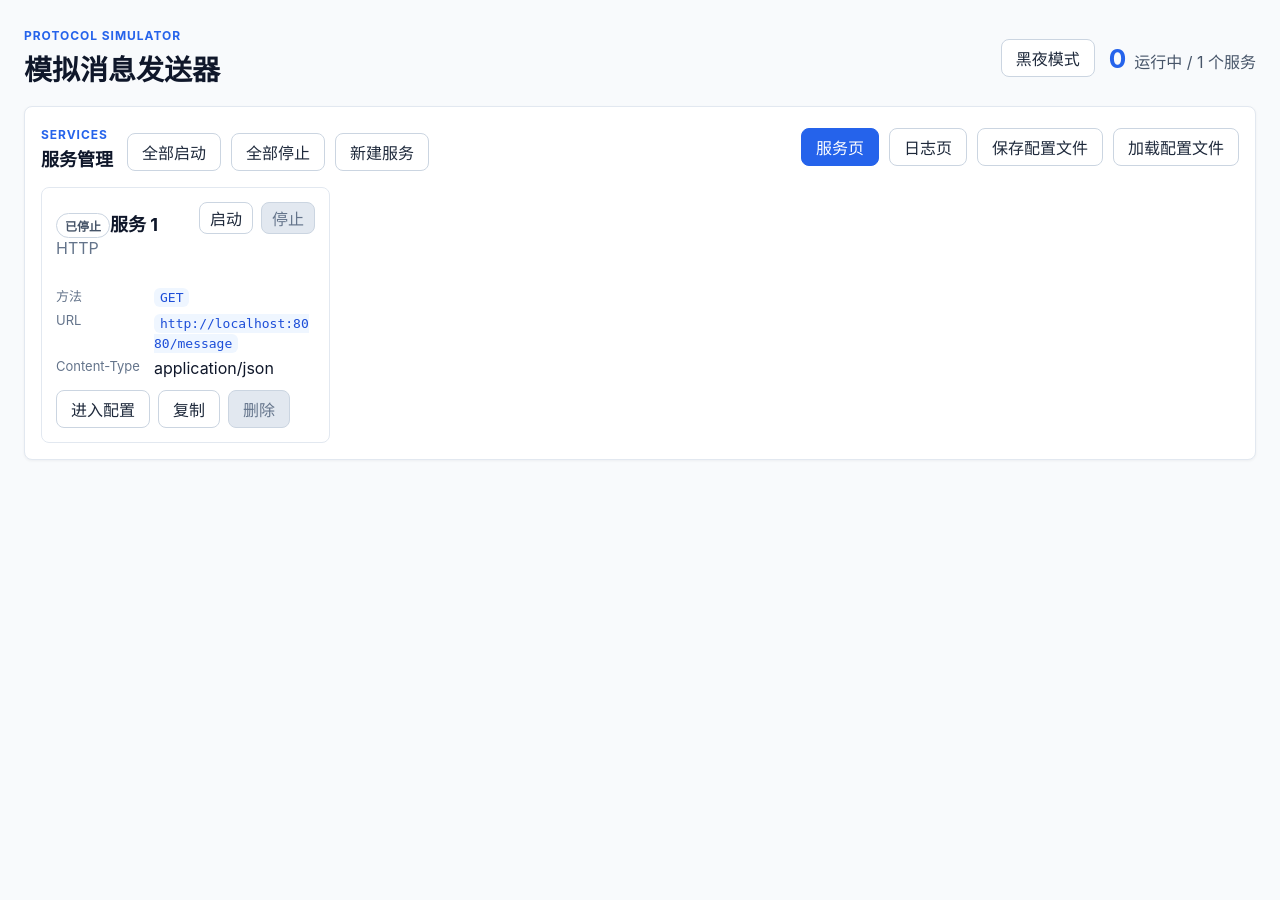
dynamic forms › edits the HTTP method and updates connection instructions
Click the button "进入配置".
click(103, 409)  # box [56,390,150,428]
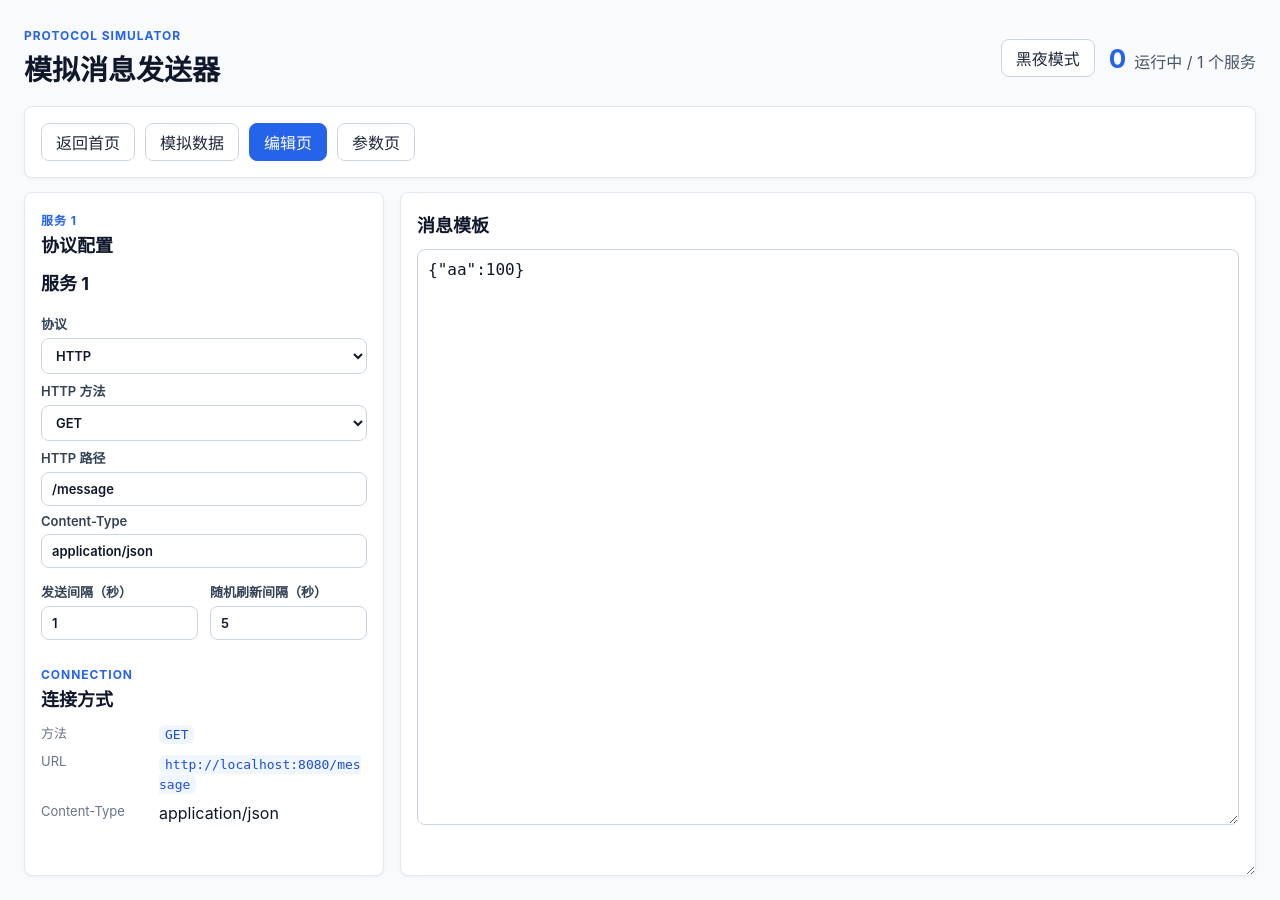
Result: the dropdown labelled "HTTP 方法" shows "GET"
Select "POST" in the dropdown labelled "HTTP 方法" at (204, 423), box [41,405,367,441]
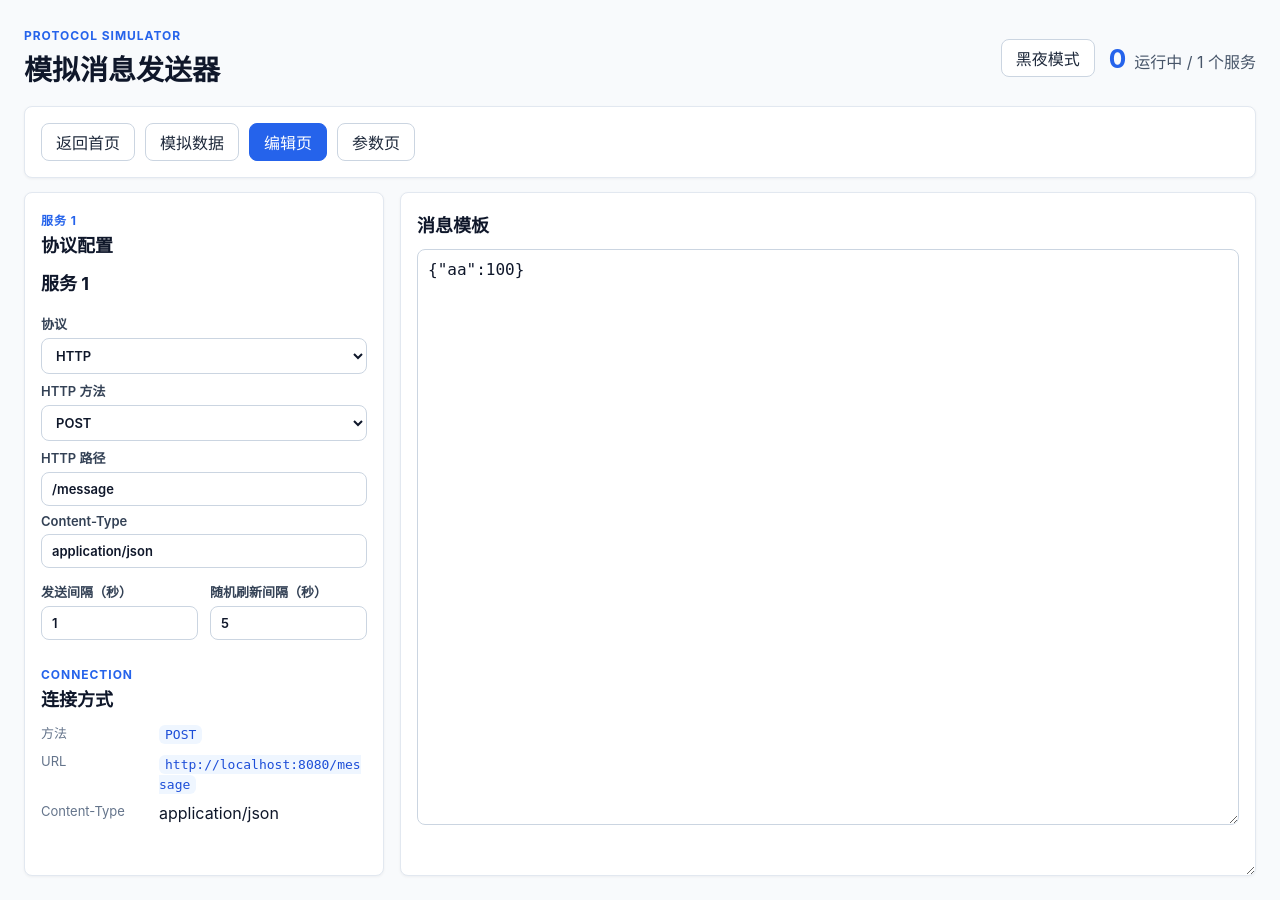
Result: the text "连接方式" is shown at [41,689,113,710]
Result: the text "POST" is shown at [159,725,202,744]
